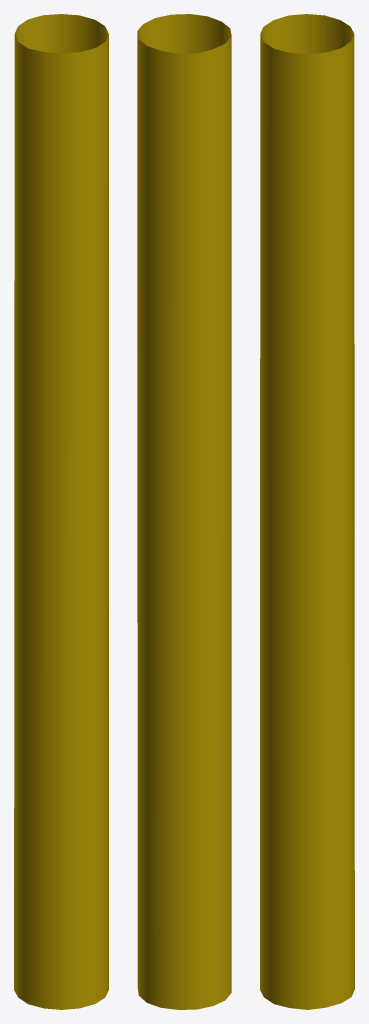
Rendered from original_4.obj.
3 views of the same model, side by side, from view 1: azimuth 90°, elevation 25°; view 2: azimuth 150°, elevation 25°; view 3: azimuth 270°, elevation 25° (orthographic).
Visible parts, largest first — view 1: #ID29; view 2: #ID29; view 3: #ID29.
Boxes of the visible parts, x1,y1,x2,y2 form: #ID29: (14, 14, 108, 1009); #ID29: (137, 14, 231, 1009); #ID29: (260, 14, 354, 1009).
Bounding box in the file's own units: 0.0421 × 0.4682 × 0.0421.
